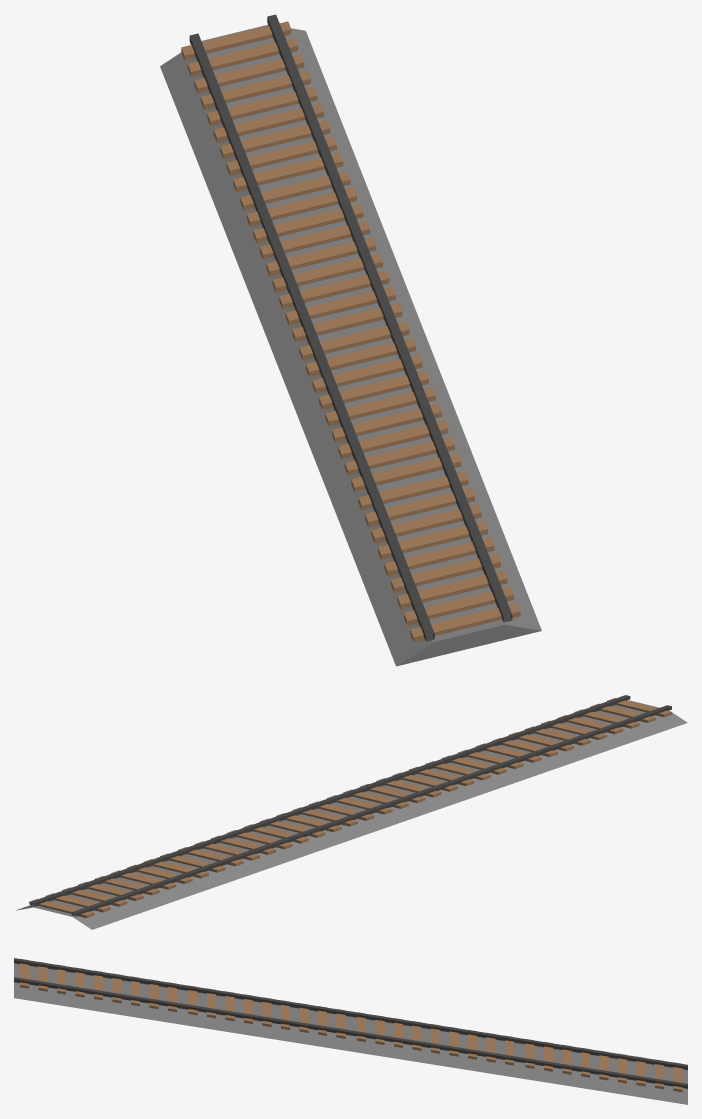
The model's file is west_huoche09.FBX.
The picture shows the model from 3 angles, top to bottom: view 1: azimuth 30°, elevation 25°; view 2: azimuth 150°, elevation 25°; view 3: azimuth 270°, elevation 25°; orthographic projection. The views are drawn at different scales.
Visible parts, largest first — view 1: west_huoche09; view 2: west_huoche09; view 3: west_huoche09.
Part boxes in pixels (x1=…): west_huoche09: x1=160, y1=14, x2=541, y2=666; west_huoche09: x1=15, y1=695, x2=687, y2=929; west_huoche09: x1=14, y1=958, x2=687, y2=1104.
Size of the model in its own units: 4905 by 189 by 9811.
